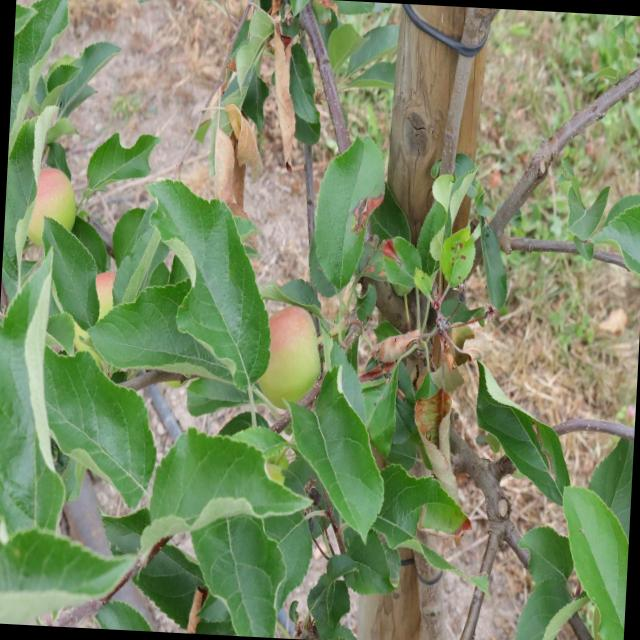-FireBlight-: (253, 12, 305, 166)
